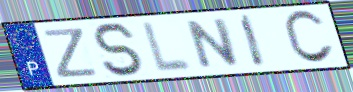C: (281, 9, 337, 67)
I: (238, 13, 270, 69)
L: (140, 19, 195, 74)
N: (185, 16, 242, 71)
S: (90, 21, 149, 79)
Z: (41, 26, 101, 80)
